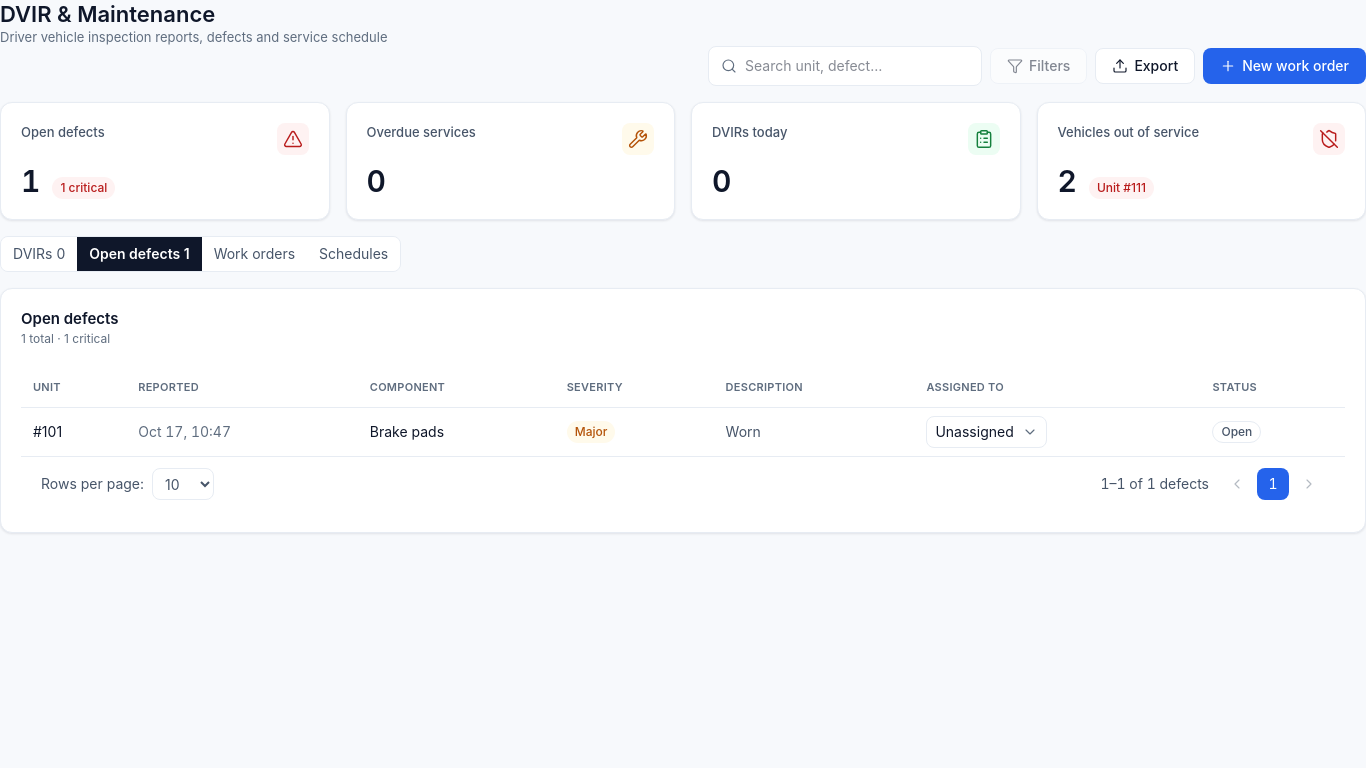
it: DvirPage › open defects: a failed assignment is announced instead of snapping back silently
Click the dropdown named "Assign defect Brake pads".
click(987, 432)  # box left=926, top=416, right=1047, bottom=448
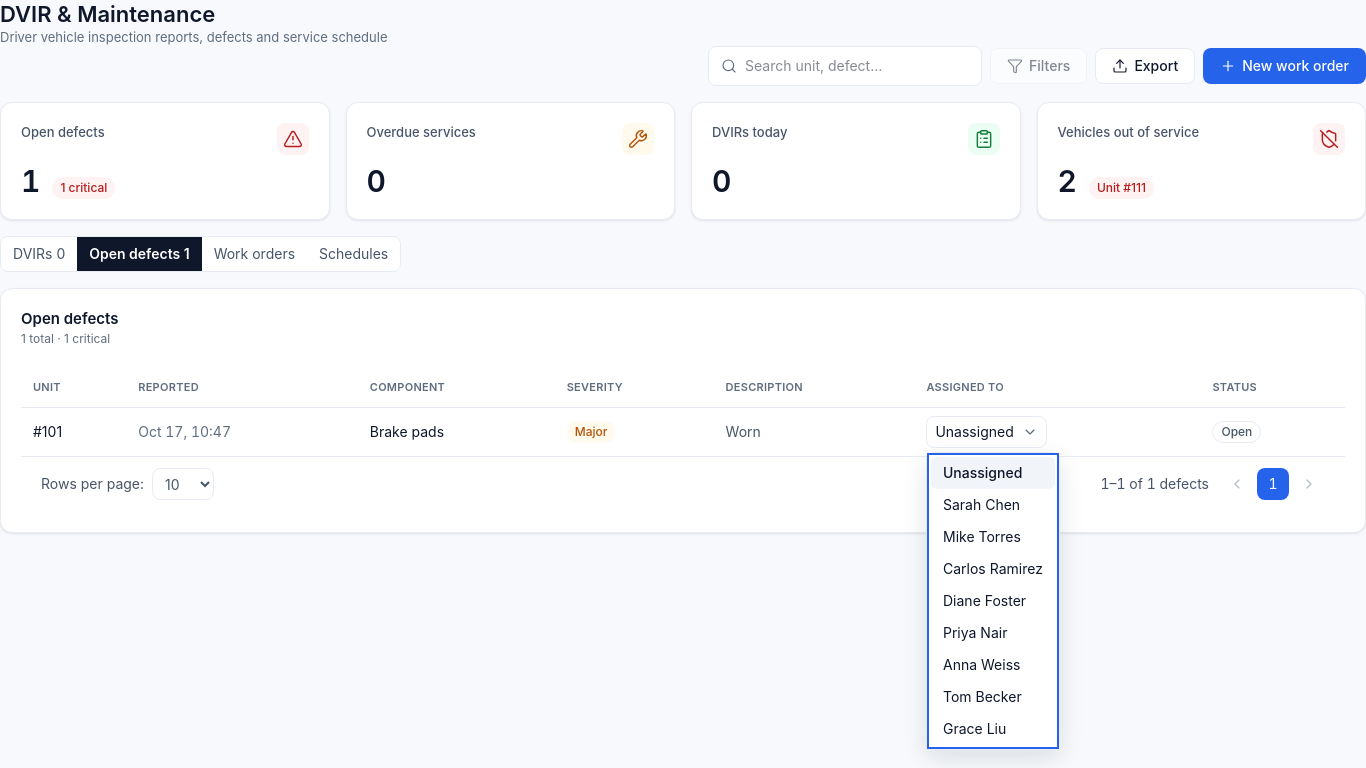
Click the option "Sarah Chen".
click(982, 504)  # box left=943, top=496, right=1020, bottom=513
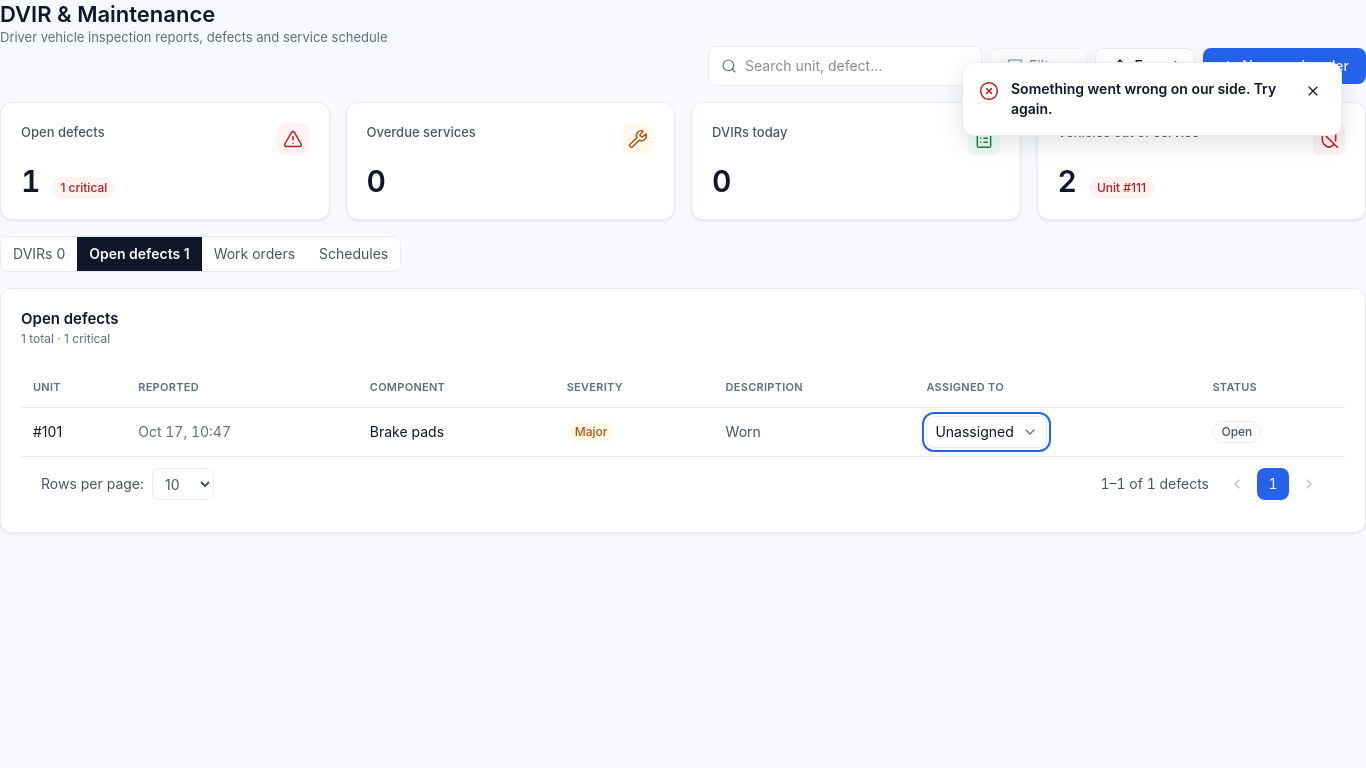
Expected: the text "Something went wrong on our side. Try again." is shown, left=1011, top=79, right=1289, bottom=119
